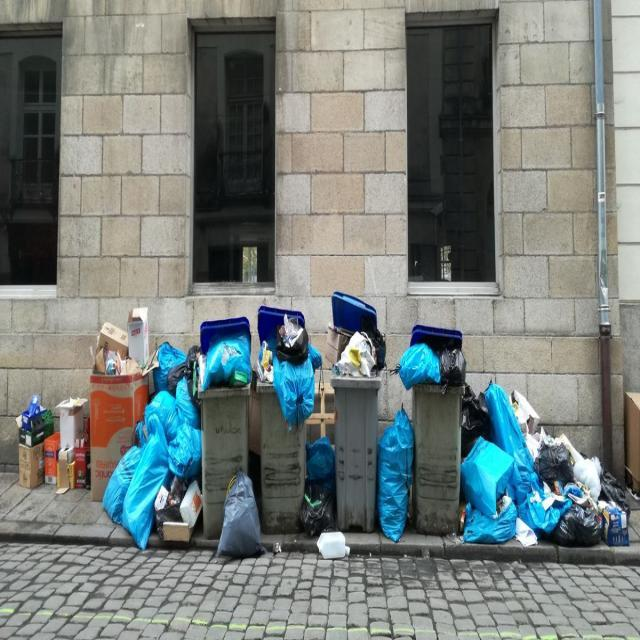garbage: (86, 302, 205, 561), (462, 381, 638, 547), (250, 302, 327, 424), (11, 387, 90, 499), (376, 402, 418, 544), (217, 464, 270, 568), (195, 310, 258, 396), (385, 320, 467, 386), (322, 312, 388, 392), (303, 428, 350, 538), (314, 526, 359, 566)
